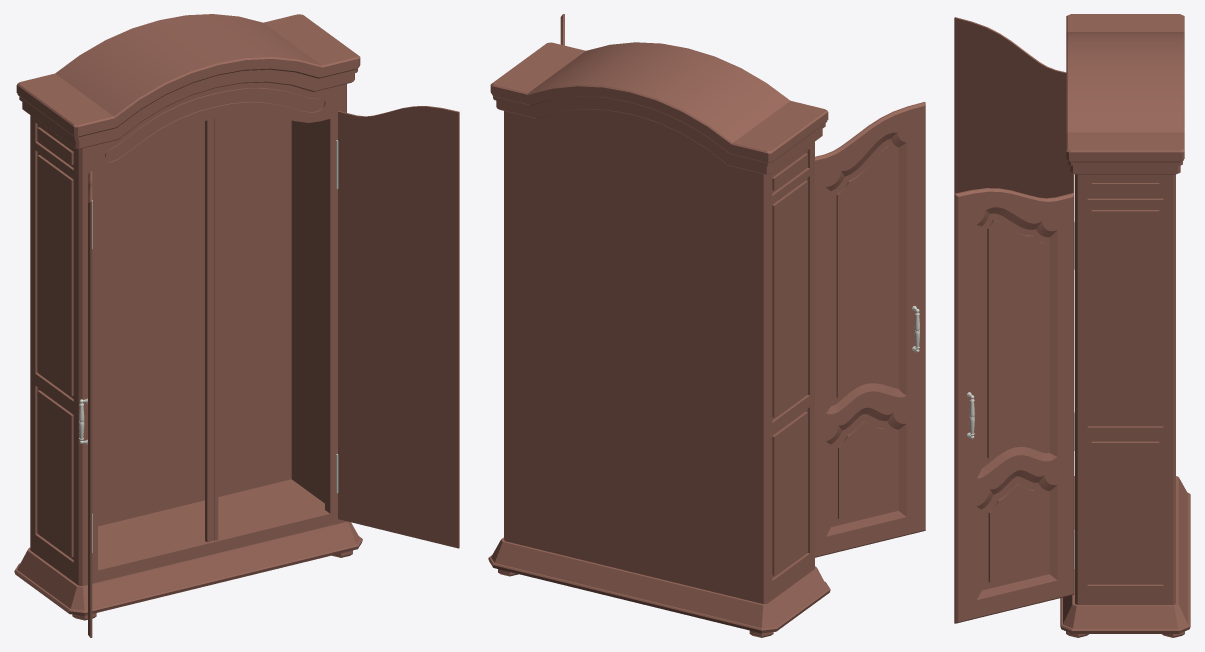
Rendered from 940_closet_open.glb.
3 renders of one model, left to right at view 1: azimuth 30°, elevation 25°; view 2: azimuth 150°, elevation 25°; view 3: azimuth 270°, elevation 25°, orthographic.
Visible parts, largest first — view 1: Body, right, left; view 2: Body, left; view 3: Body, right, left.
Boxes of the visible parts, x1=… form: Body: x1=14, y1=14, x2=362, y2=620; right: x1=338, y1=106, x2=459, y2=548; left: x1=79, y1=171, x2=92, y2=637; Body: x1=488, y1=42, x2=830, y2=637; left: x1=815, y1=102, x2=925, y2=557; Body: x1=1060, y1=14, x2=1190, y2=637; right: x1=954, y1=188, x2=1074, y2=623; left: x1=954, y1=17, x2=1074, y2=198.
Size of the model in its own units: 1.52 by 2.03 by 0.8428.
